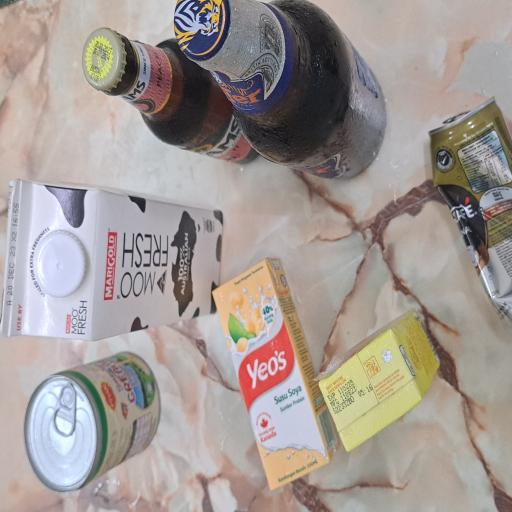can: (14, 30, 122, 216)
drink carton: (130, 0, 250, 298), (18, 284, 192, 454), (45, 425, 151, 512)
glass bottle: (250, 230, 383, 512), (260, 107, 362, 346)
plastic bottle cap: (160, 46, 212, 117)
pop tab: (56, 70, 97, 100)
